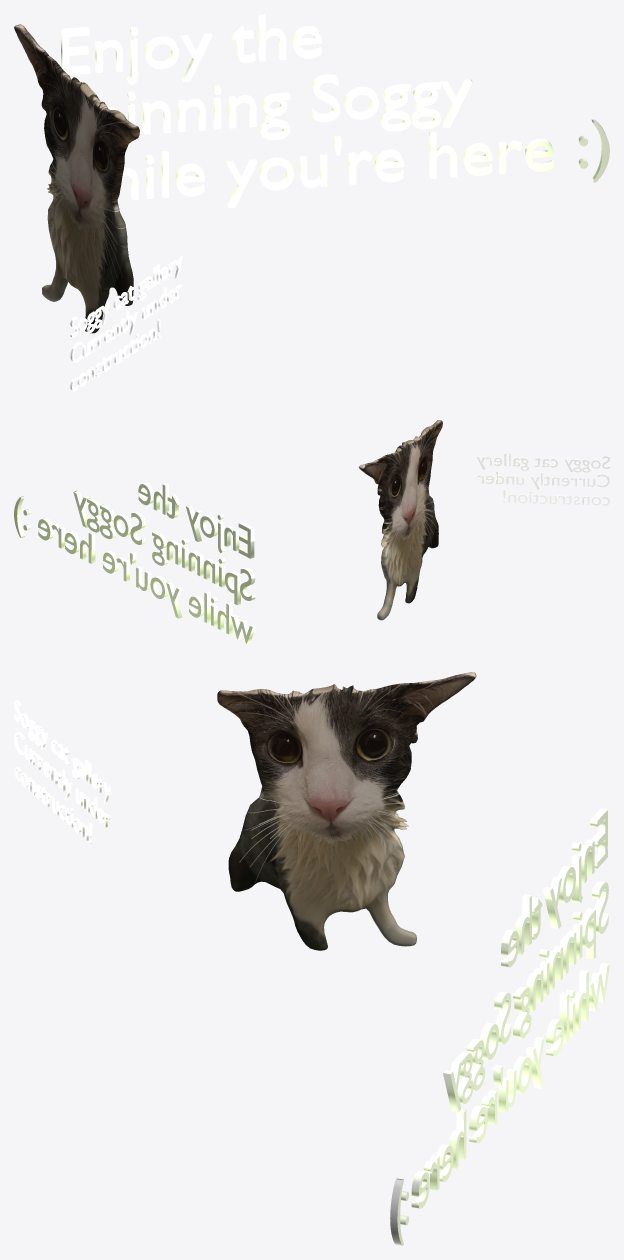
Rendered from soggy.gltf.
The picture shows the model from 3 angles, top to bottom: view 1: azimuth 30°, elevation 25°; view 2: azimuth 150°, elevation 25°; view 3: azimuth 270°, elevation 25°; orthographic projection. The views are drawn at different scales.
Visible parts, largest first — view 1: Text.001, sogbgless, Text; view 2: Text.001, sogbgless, Text; view 3: sogbgless, Text.001, Text.
Boxes of the visible parts, <box> form: Text.001: <box>61,14,609,208</box>; sogbgless: <box>14,24,139,333</box>; Text: <box>70,256,182,391</box>; Text.001: <box>14,483,256,643</box>; sogbgless: <box>359,420,442,620</box>; Text: <box>477,453,609,505</box>; sogbgless: <box>217,672,476,950</box>; Text.001: <box>390,808,609,1245</box>; Text: <box>14,700,111,843</box>.
Size of what is drawn, in the model's own units: 9.5 by 3.34 by 6.33.
3 materials, 1 textured.
